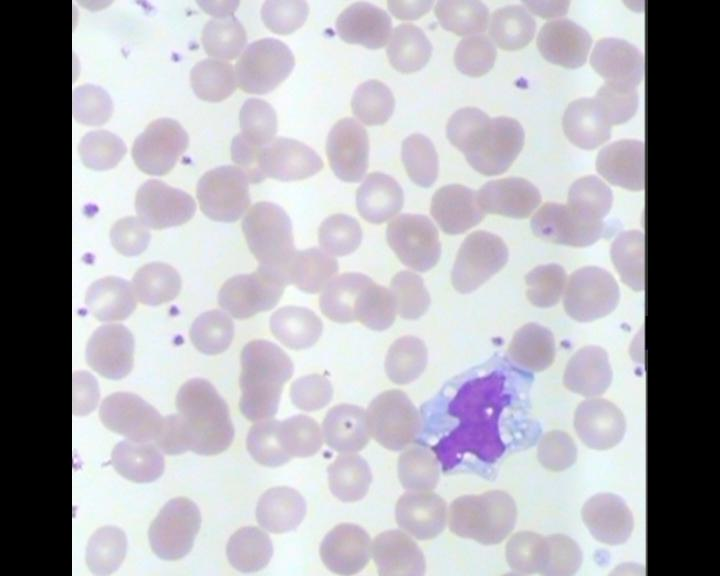mono: (411, 354, 546, 483)
